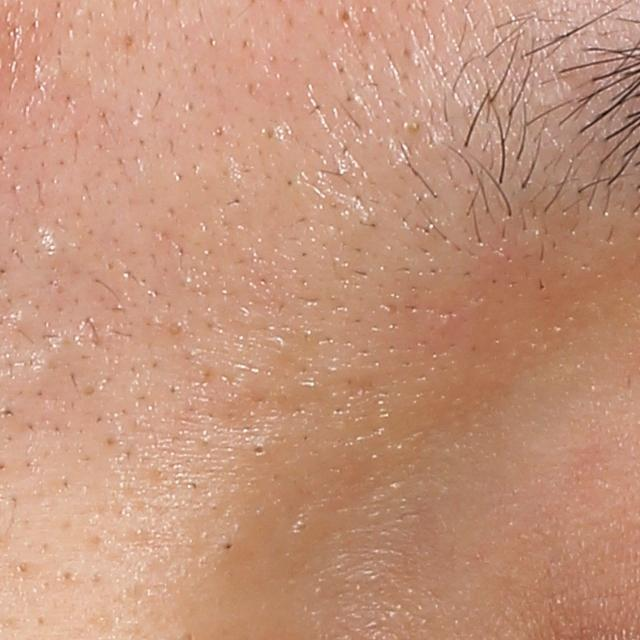comedo: (246, 438, 272, 460), (338, 8, 360, 28), (219, 539, 237, 555)
